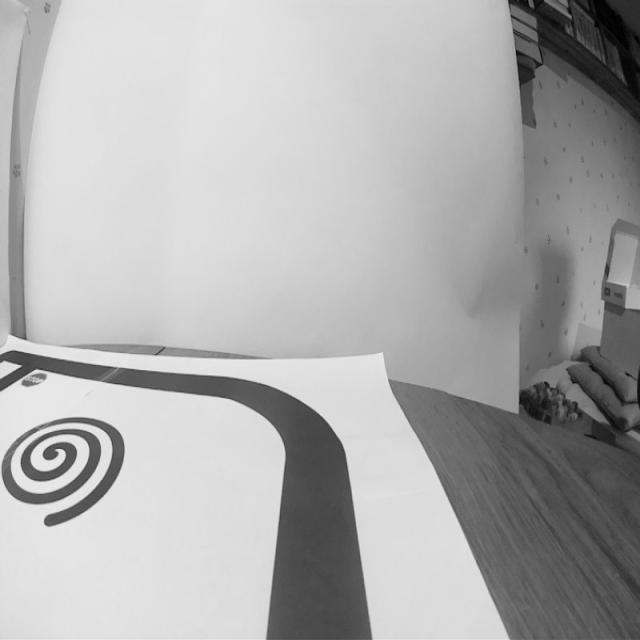lineStraight: (252, 465, 391, 640)
